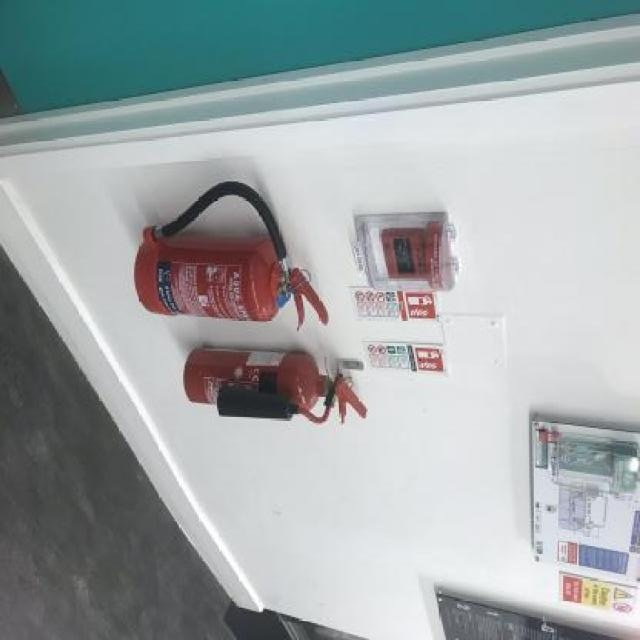fire extinguisher: (132, 178, 331, 330), (183, 346, 368, 428)
